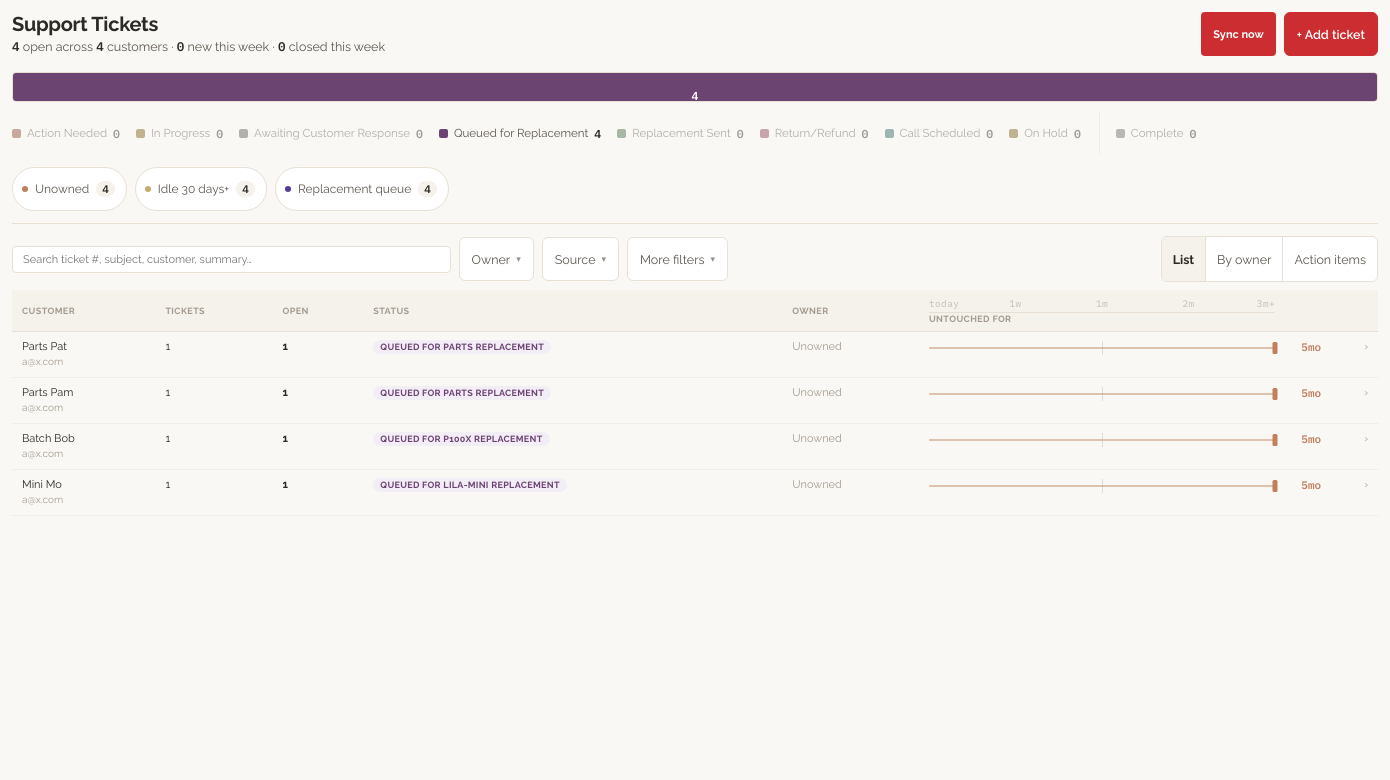
Test: SupportTab — parts vs batch replacement chips › hides the chips until the replacement queue view is open
Click the button "Replacement queue 4".
click(362, 189)  # box [275, 167, 449, 211]
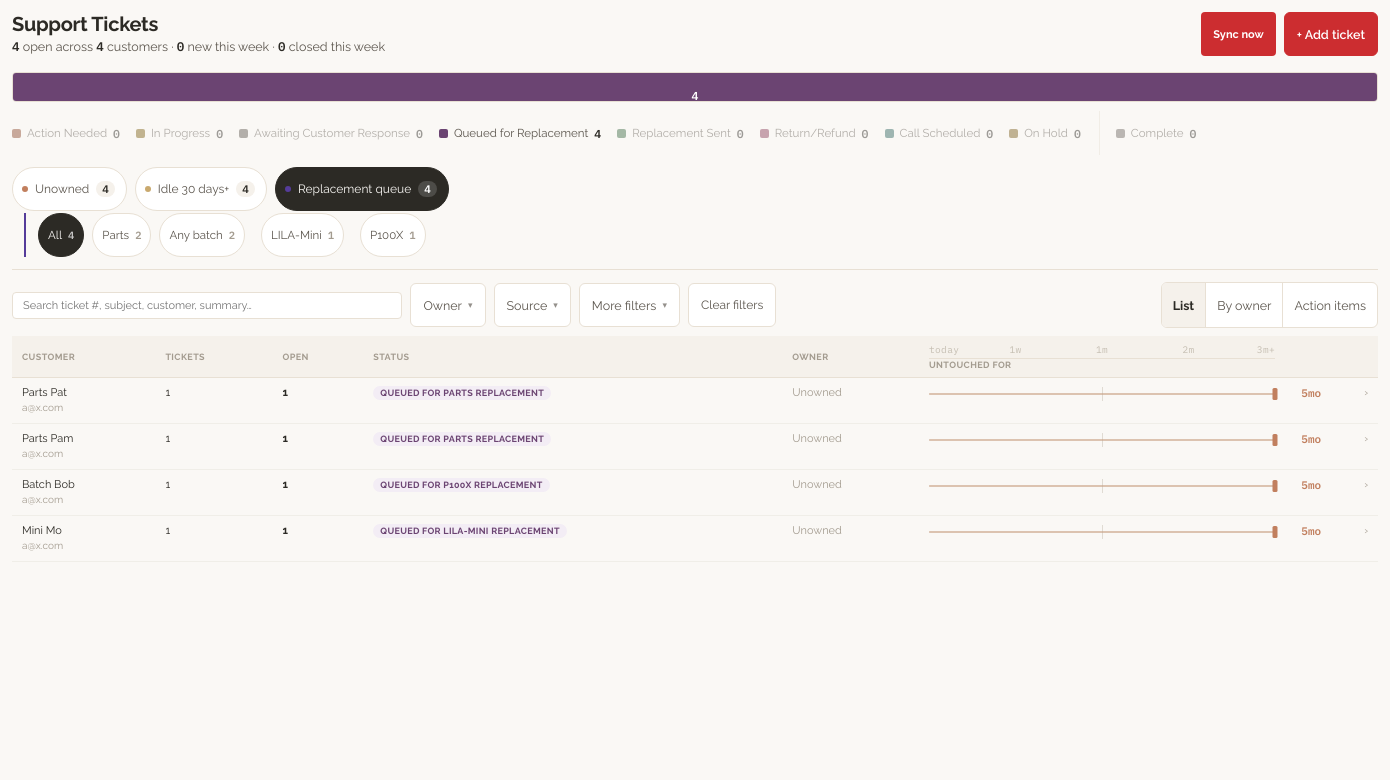
Expected: the element named "replacement kind" is shown, [24, 213, 1378, 257]
